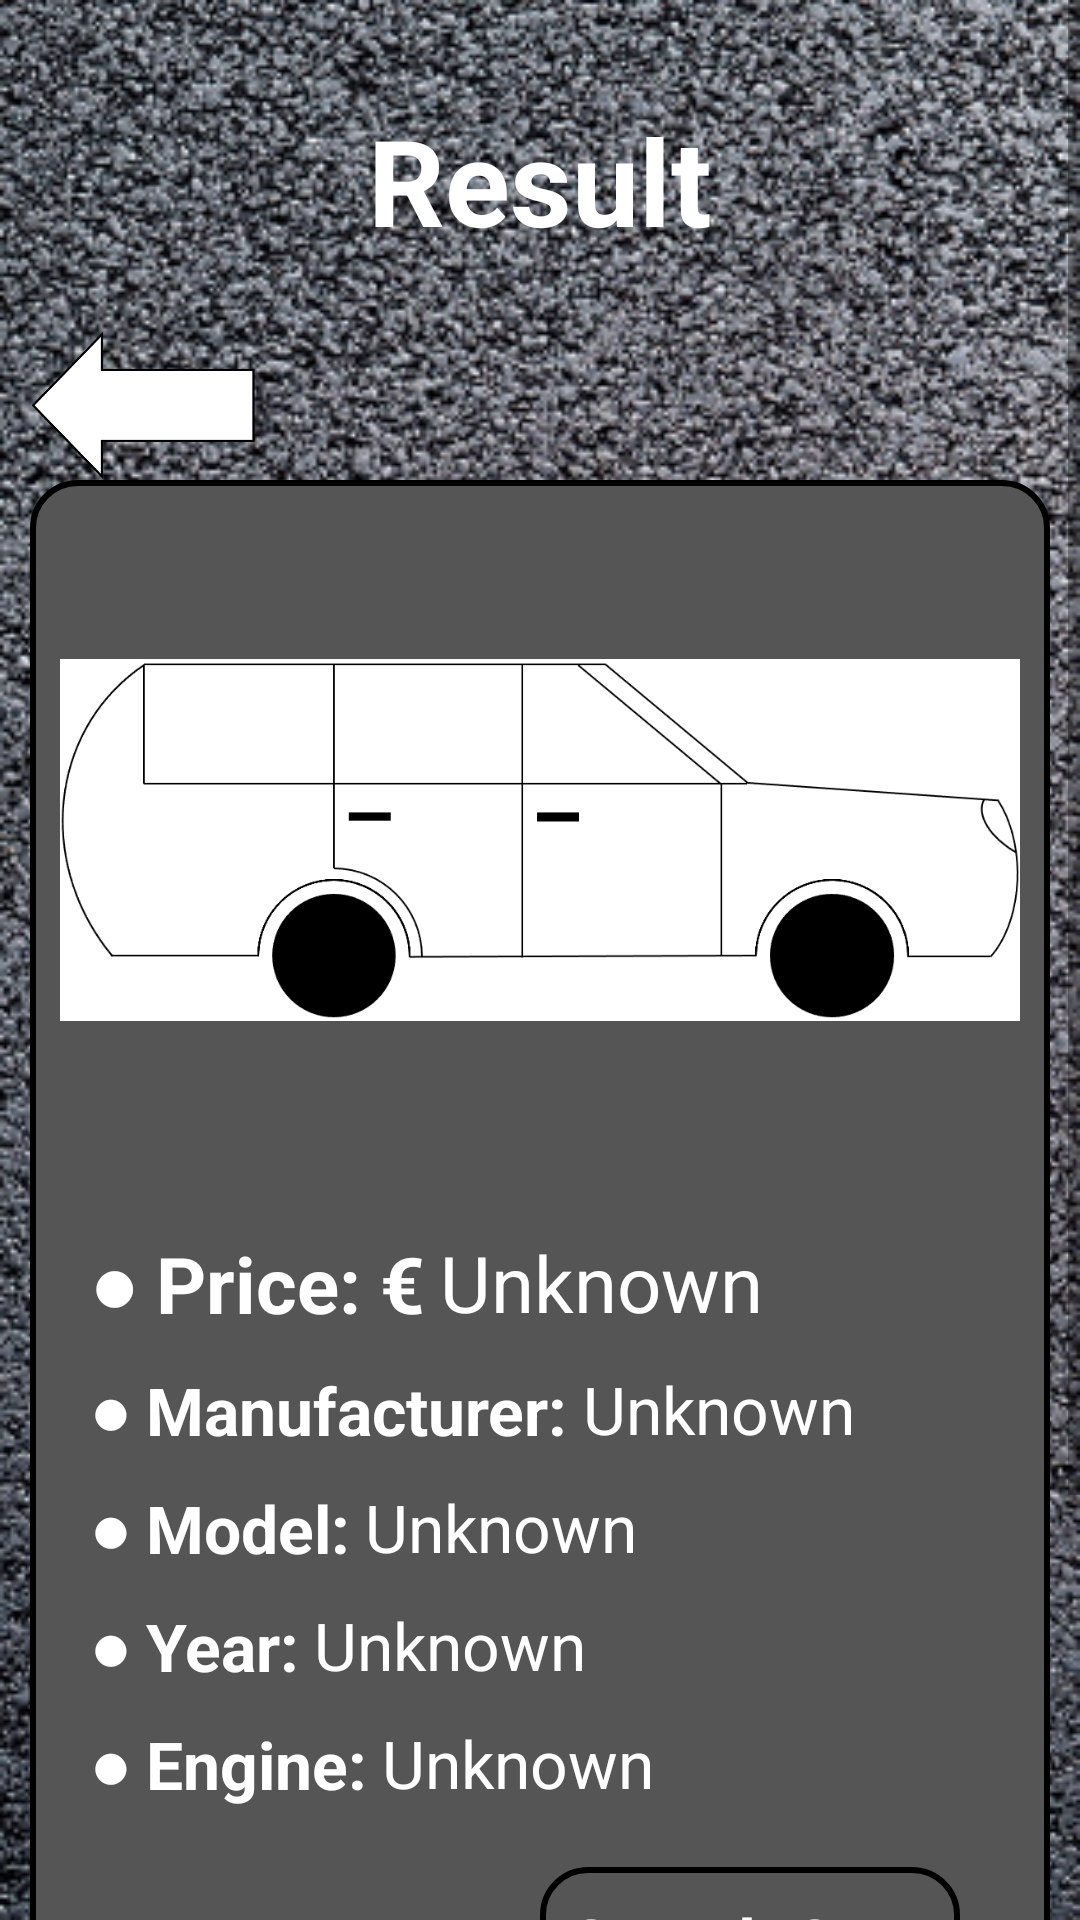

Icons on this 1080×1920 Android screen, each with the point to tap as (x=x, y=y):
Tap to go back: (x=142, y=405)
